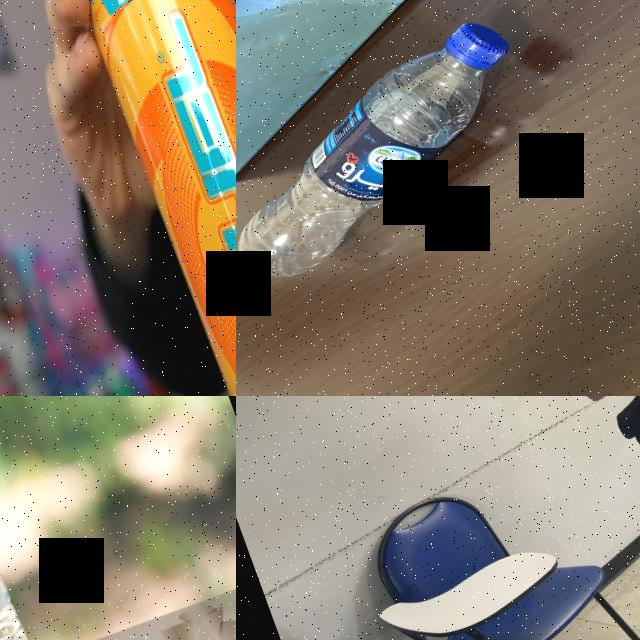bottle: (236, 8, 563, 295), (0, 396, 93, 640)
can: (53, 0, 236, 396)
